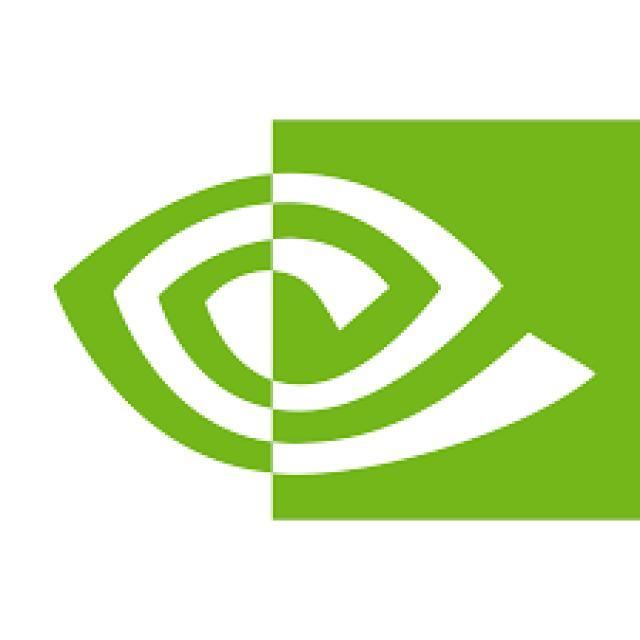Nvidia: (0, 118, 637, 526)
